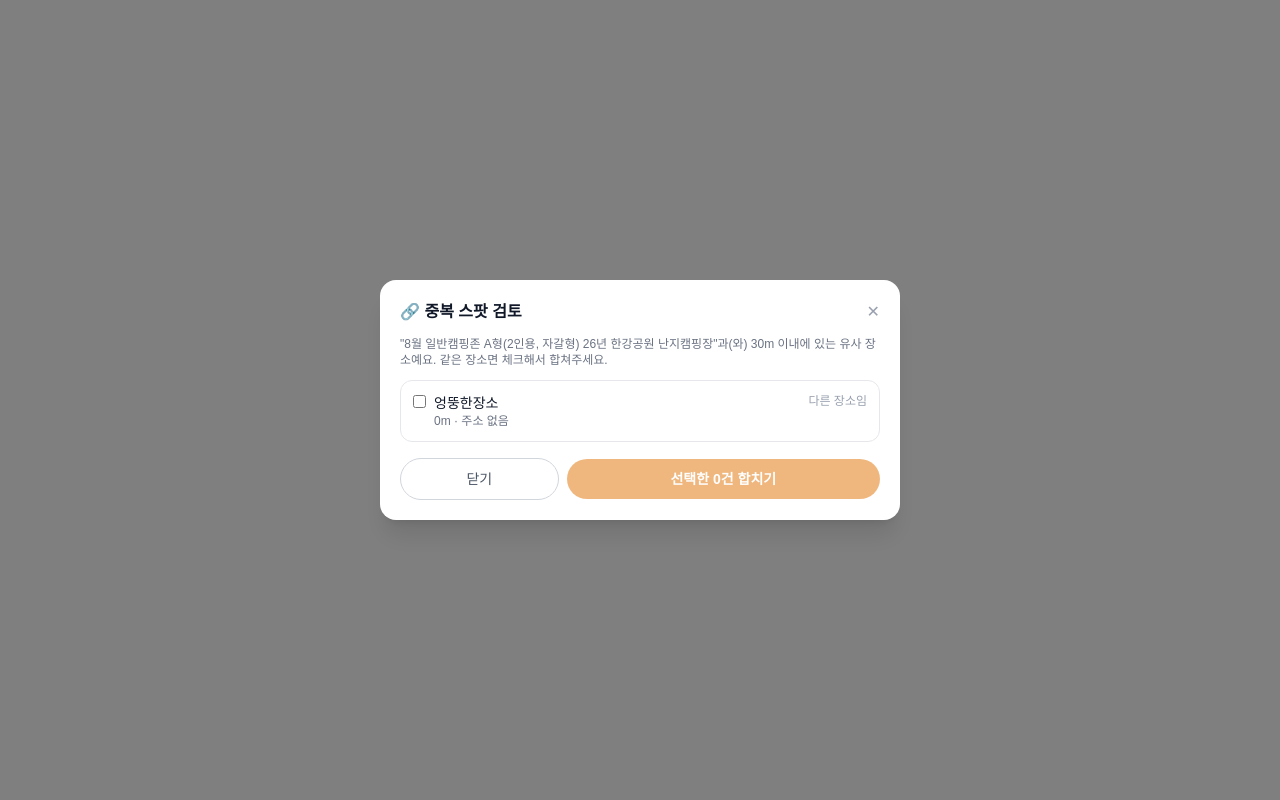
Test: SpotDedupQuickModal › "다른 장소임"을 누르면 목록에서 빠지고 pending-groups에 ignored로 기록된다
Expected: the text "엉뚱한장소" is shown, [434,395,498,411]
What coordinates should you click on to do the following:
click the button "다른 장소임"
I would click on:
 (838, 401)
Its box is [808,393,867,409].
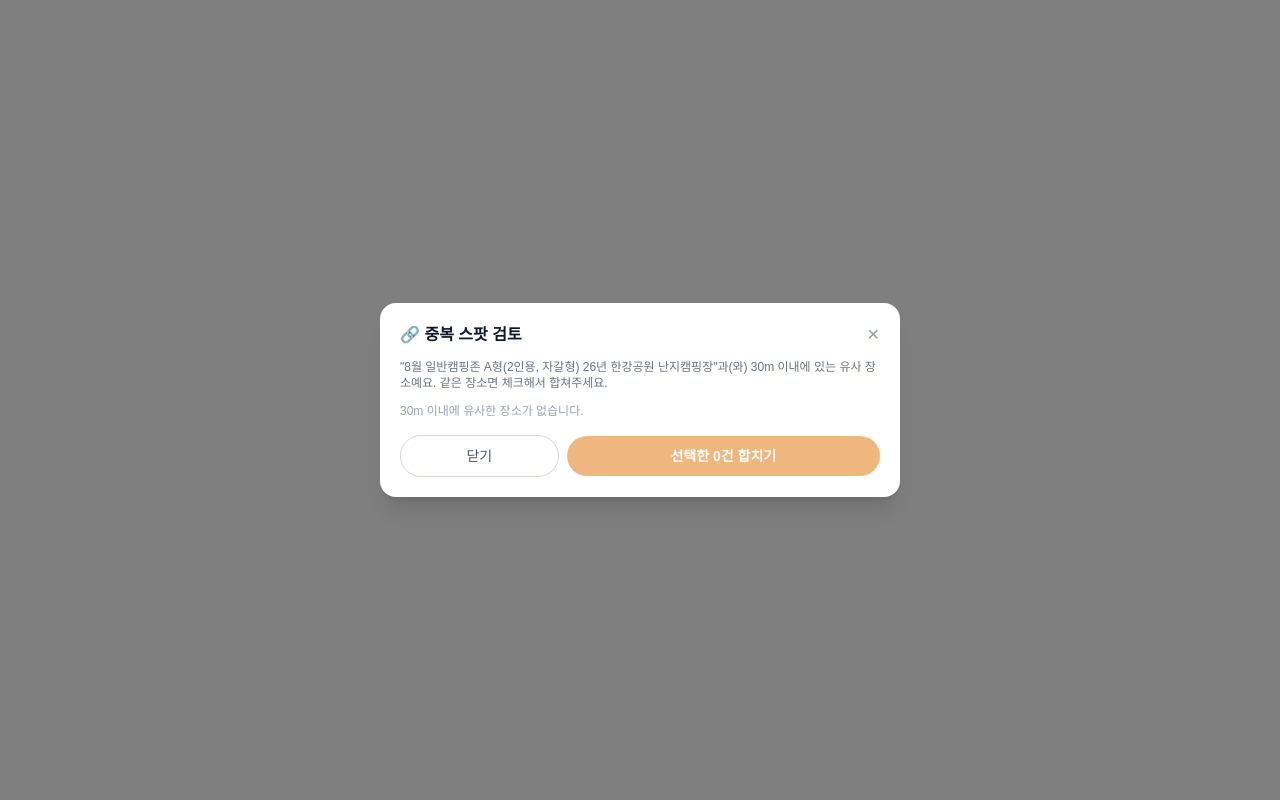
Result: the text "엉뚱한장소" is gone
